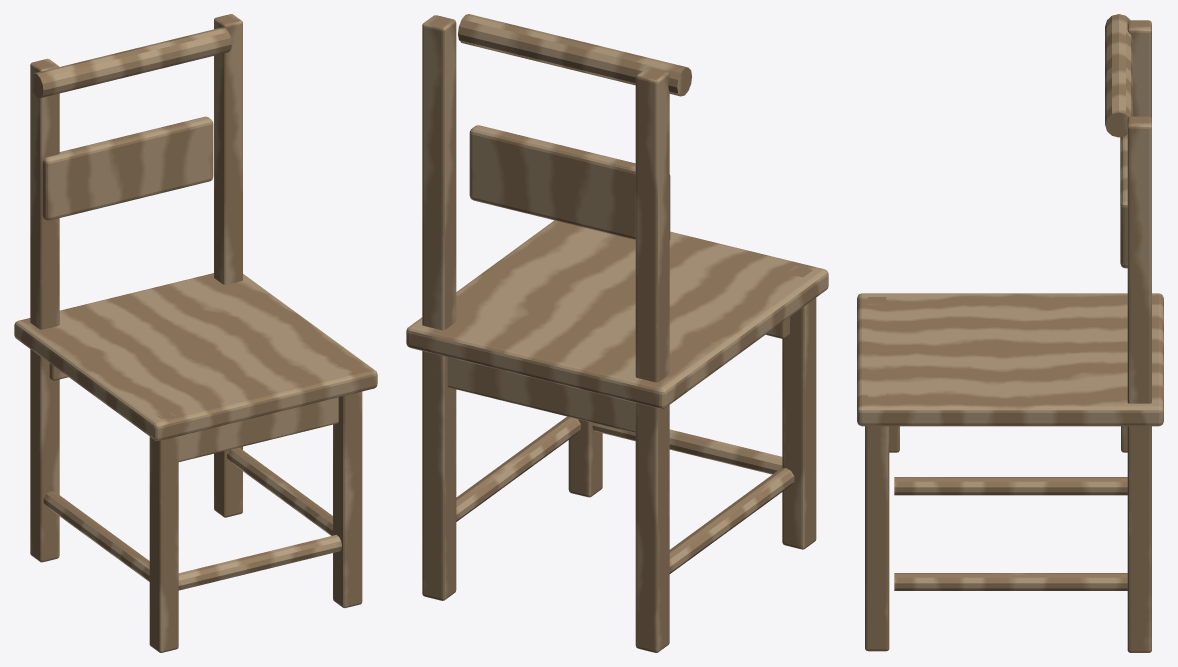
The model's file is FUR_WoodChair_Broken.fbx.
3 views of the same model, side by side, from view 1: azimuth 30°, elevation 25°; view 2: azimuth 150°, elevation 25°; view 3: azimuth 270°, elevation 25° (orthographic). The views are drawn at different scales.
Visible parts, largest first — view 1: Chair_Seat, Chair_Legs_Back, Chair_Back, Chair_Legs_Front; view 2: Chair_Seat, Chair_Legs_Back, Chair_Back, Chair_Legs_Front; view 3: Chair_Seat, Chair_Legs_Back, Chair_Legs_Front, Chair_Back.
Part boxes in pixels (x1,y1,x2,y2): Chair_Seat: (14,273,377,461); Chair_Legs_Back: (30,14,332,581); Chair_Back: (30,27,231,220); Chair_Legs_Front: (149,364,362,652); Chair_Seat: (406,220,828,432); Chair_Legs_Back: (422,15,794,652); Chair_Back: (458,14,691,240); Chair_Legs_Front: (568,266,816,549); Chair_Seat: (857,293,1163,452); Chair_Legs_Back: (894,20,1151,652); Chair_Legs_Front: (865,297,889,651); Chair_Back: (1105,14,1132,268).
Size of the model in its own units: 45 by 95.25 by 50.
